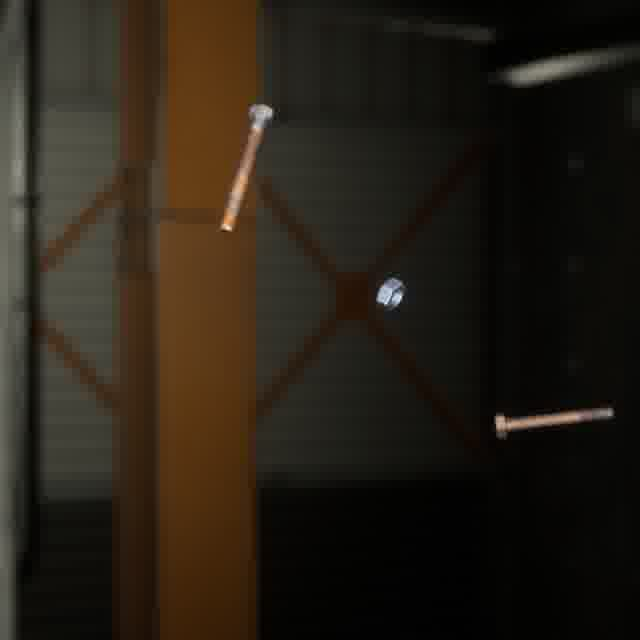bolt: (214, 100, 278, 239), (490, 402, 618, 442)
nut: (372, 273, 410, 316)
